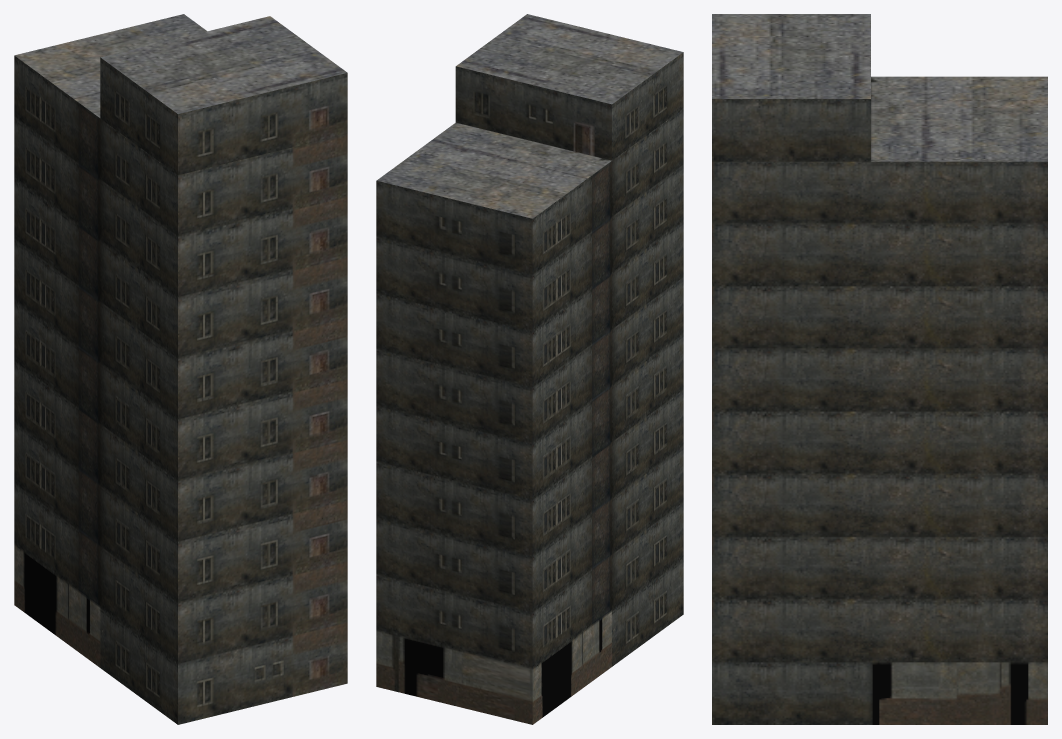
Rendered from Tower10.FBX.
3 renders of one model, left to right at view 1: azimuth 30°, elevation 25°; view 2: azimuth 150°, elevation 25°; view 3: azimuth 270°, elevation 25°, orthographic. The views are drawn at different scales.
Parts seen in each view (by area): view 1: Tower10; view 2: Tower10; view 3: Tower10.
Part boxes in pixels (box(x1,y1,x2,y2)): Tower10: box(14, 14, 347, 724); Tower10: box(376, 14, 683, 724); Tower10: box(712, 14, 1047, 724).
Size of the model in its own units: 1487 by 5112 by 2485.
